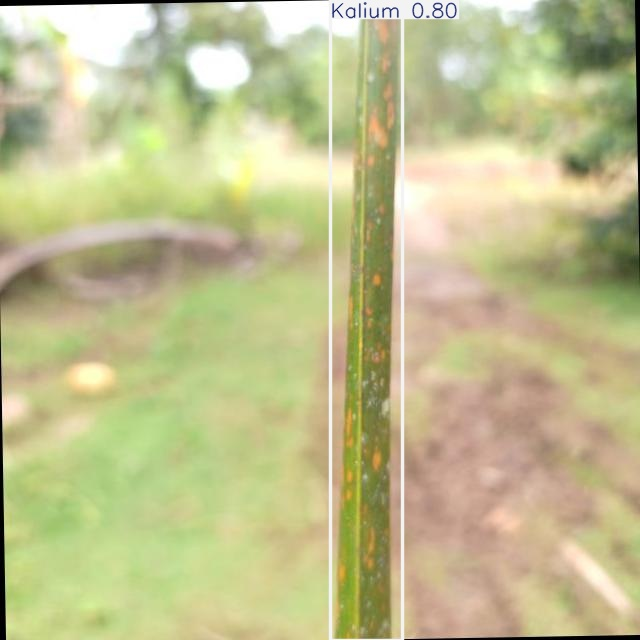Kalium: (331, 0, 403, 640)
